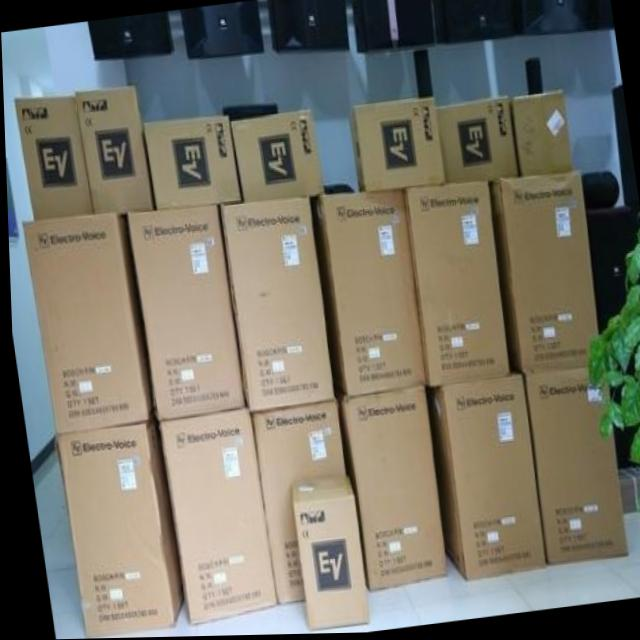box: (20, 217, 144, 435), (53, 426, 178, 635), (157, 413, 273, 626), (125, 209, 240, 422), (221, 198, 332, 413), (426, 379, 542, 582), (313, 190, 423, 399), (490, 174, 597, 376), (341, 388, 444, 594), (402, 186, 505, 388), (521, 371, 625, 568), (250, 404, 342, 605), (286, 478, 367, 633), (76, 85, 153, 215), (348, 97, 445, 194), (14, 95, 89, 220), (144, 117, 241, 211), (231, 110, 319, 203), (437, 96, 516, 186), (510, 91, 571, 177)
